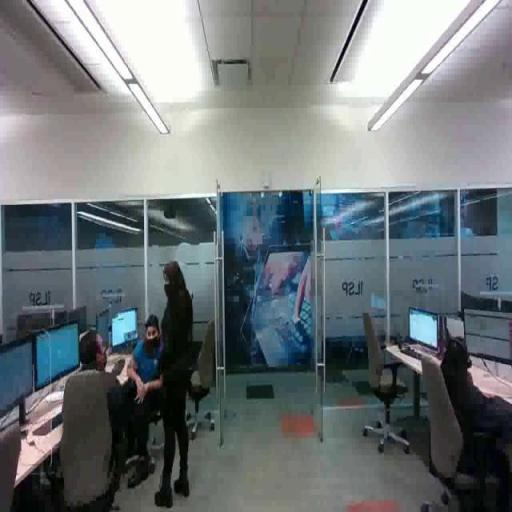person: (430, 333, 512, 508), (76, 326, 136, 512), (153, 260, 196, 512), (130, 310, 174, 495)
